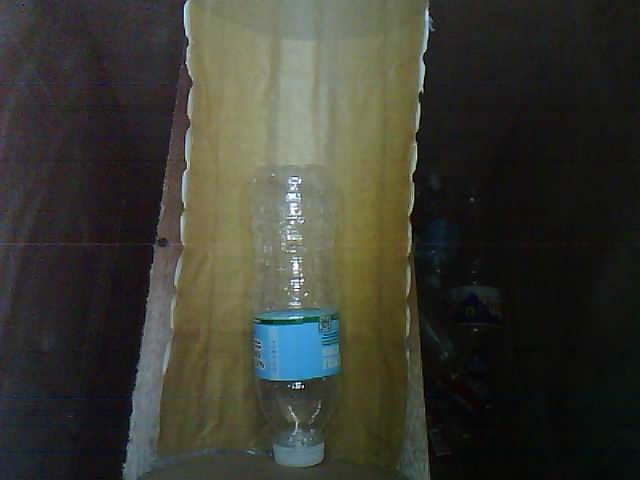small_bottle: (219, 141, 356, 480)
